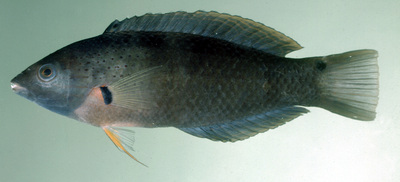fish: (9, 10, 380, 168)
